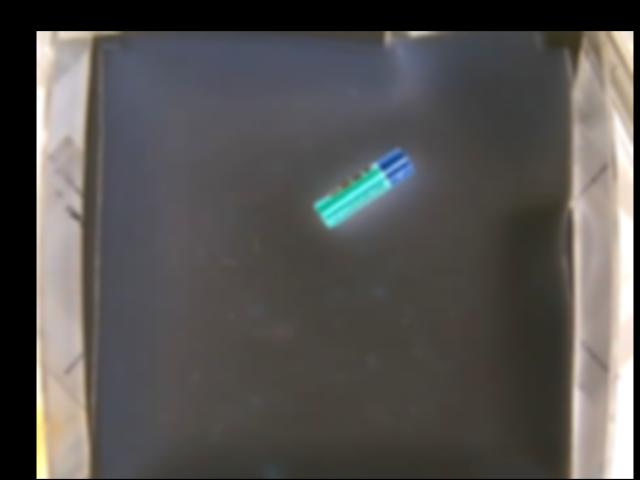Battery: (311, 145, 416, 227)
